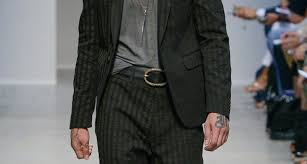F_belt: (108, 62, 205, 91)
